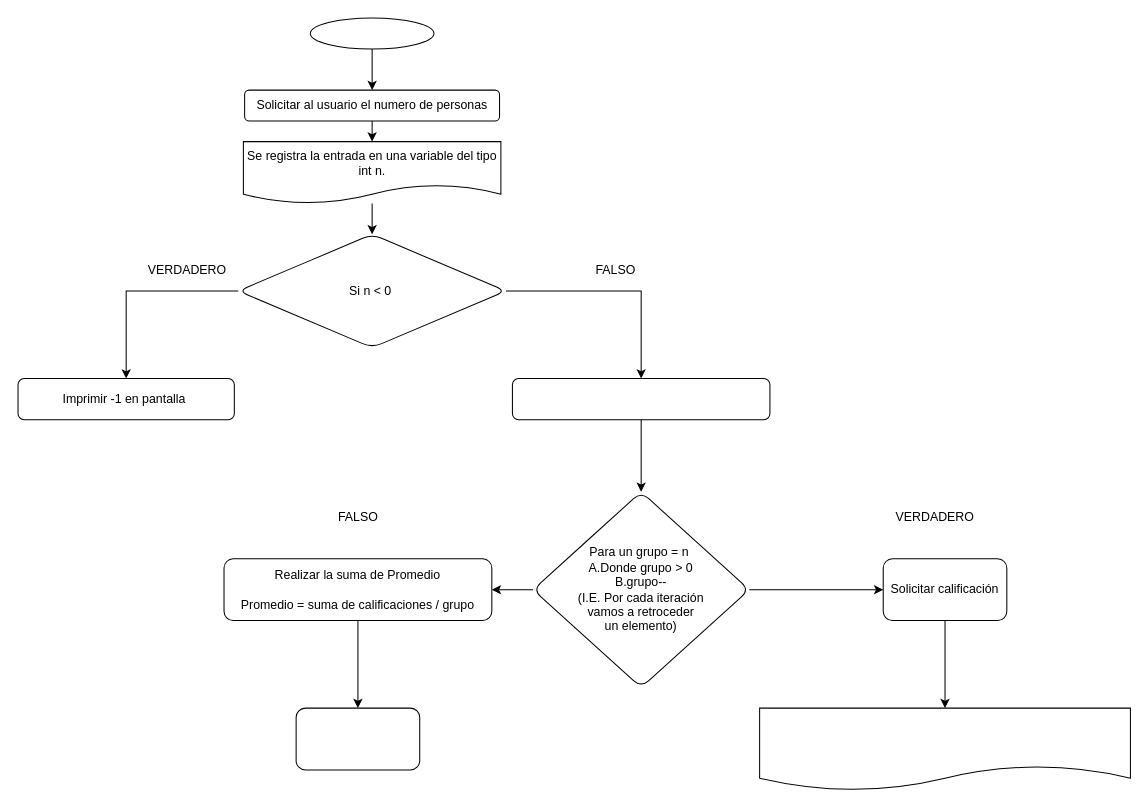
The diagram is 1148 pixels wide and 809 high, and some of its shapes have lost their labels. The centre of each missing label's shape, as x and y in pixels:
Comenzamos el cálculo del promedio.: point (640, 398)
Guardar en una variable llamada Suma de Calificaciones, el resultado: point (944, 749)
Imprimir en pantalla Promedio: point (357, 738)
Inicio del programa: point (371, 33)
